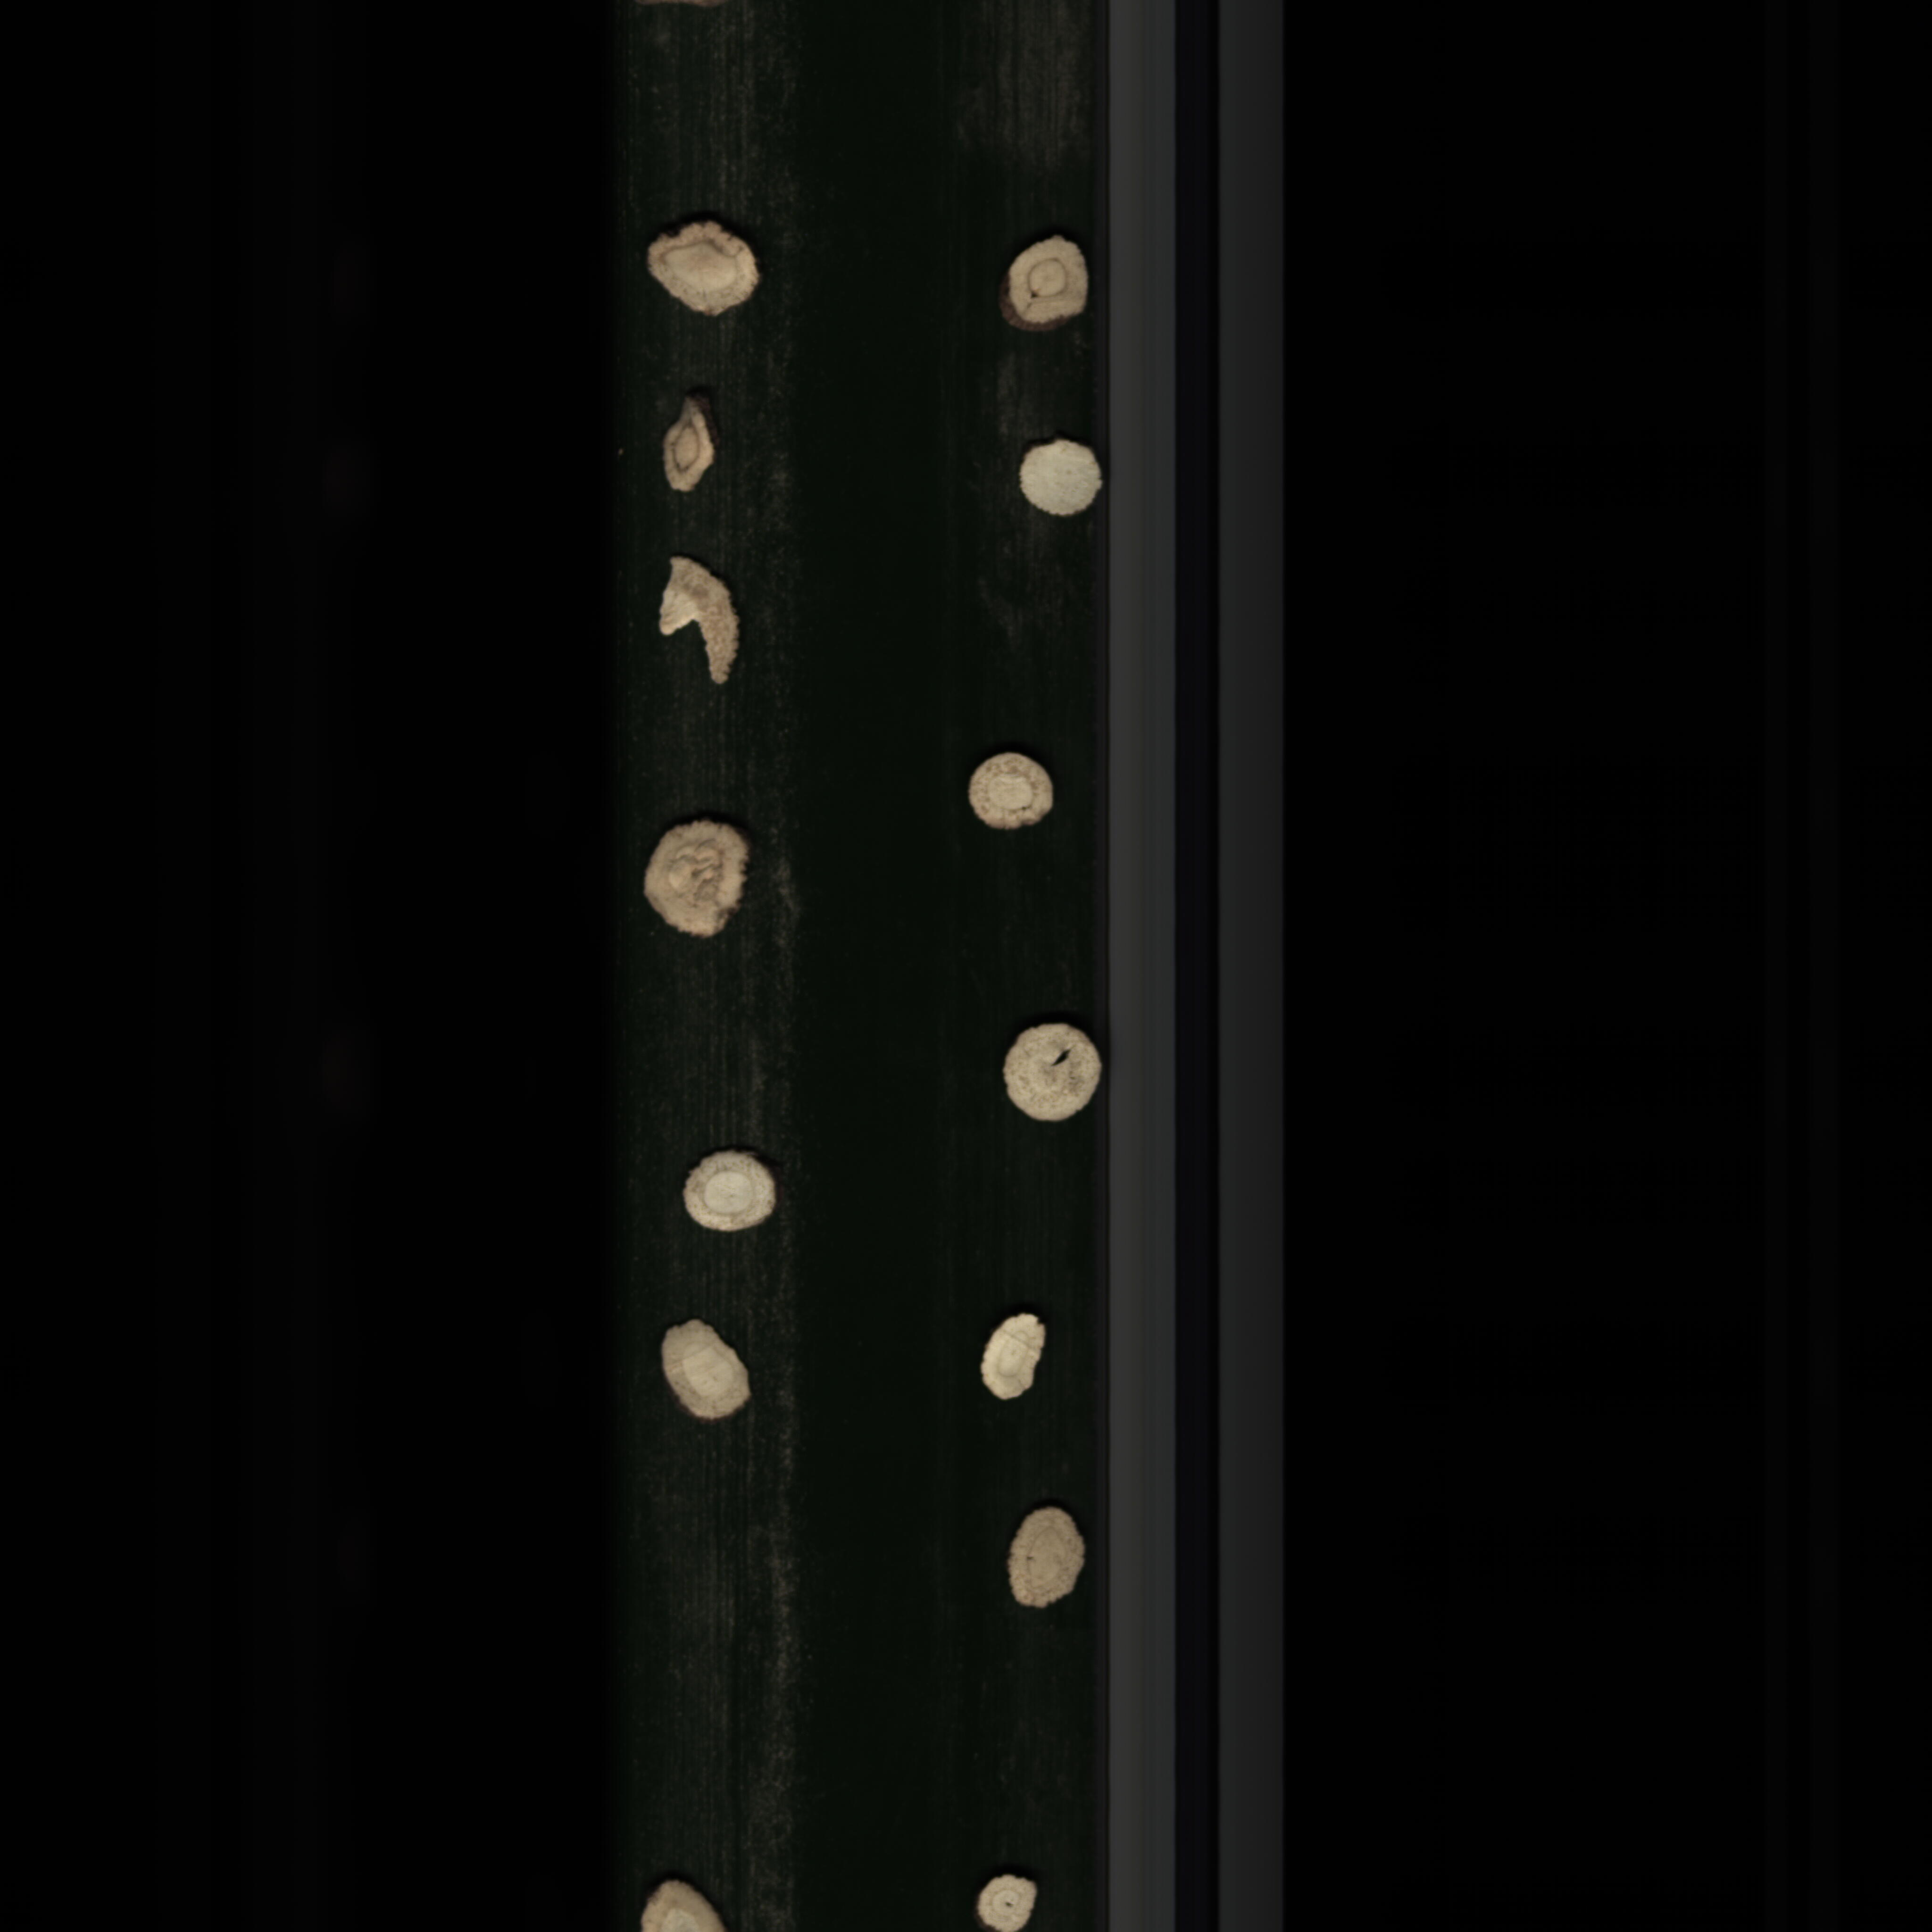debris: (649, 543, 752, 709)
distortion: (633, 810, 766, 952), (639, 218, 770, 327), (644, 395, 736, 508)
hole: (982, 1017, 1104, 1127), (971, 1867, 1039, 1928)
